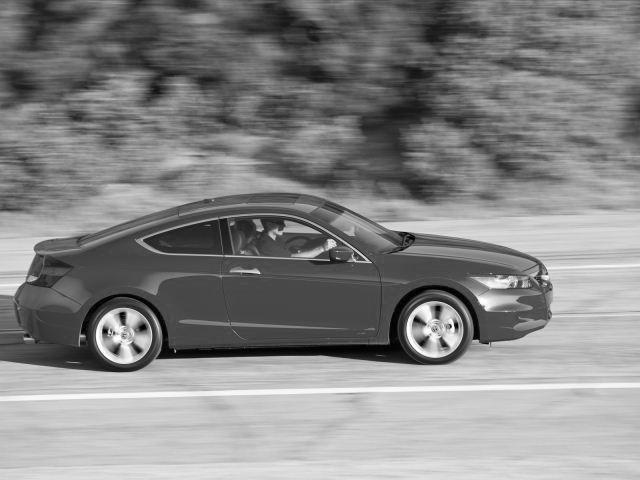car: (11, 192, 555, 373)
